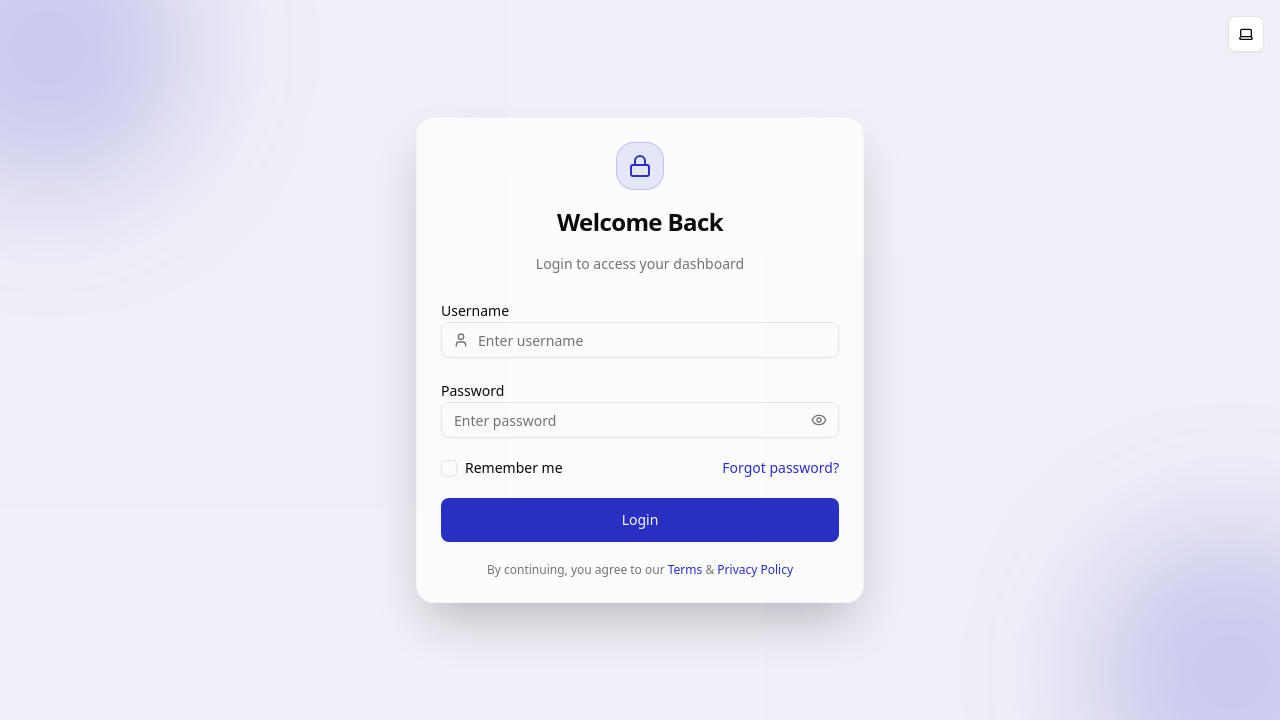
Test: LoginPage Component › should show validation error if password is less than 6 characters
This screenshot has width=1280, height=720.
Step 1. Type "admin" into the field with placeholder "Enter username" → (640,340), box [441,322,839,358]
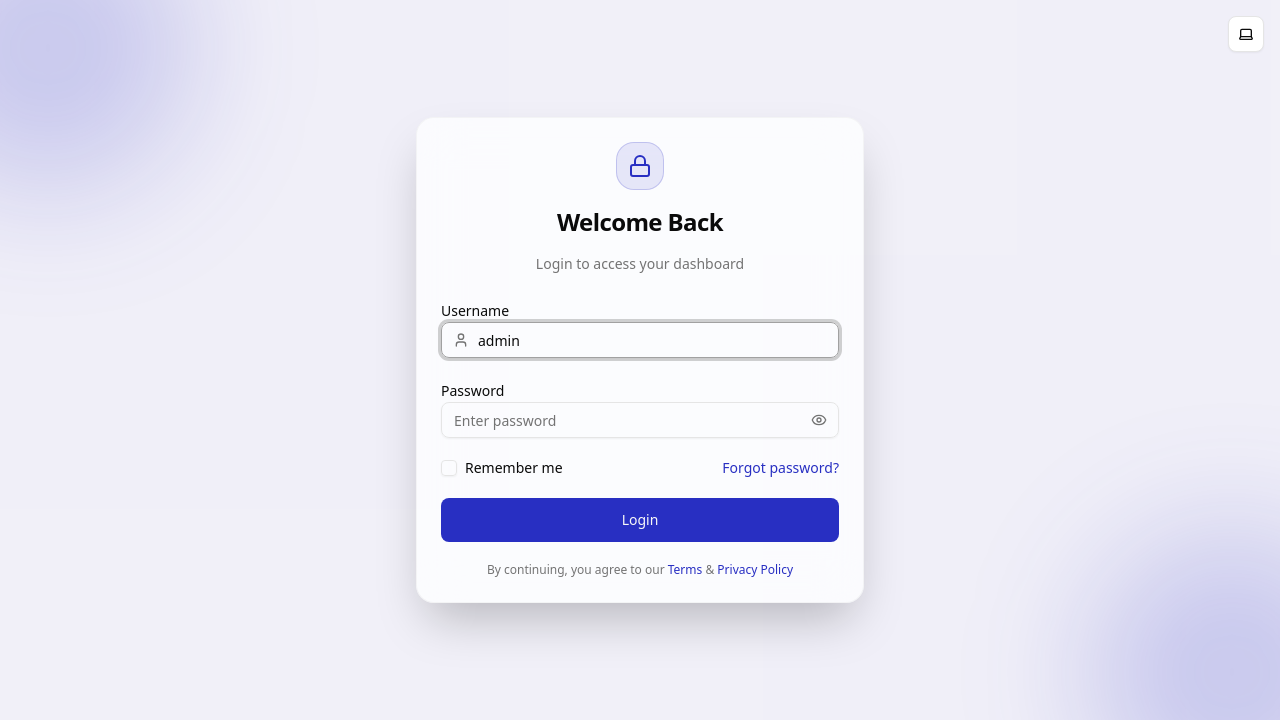
Step 2. Type "123" into the password field with placeholder "Enter password" → (640,420), box [441,402,839,438]
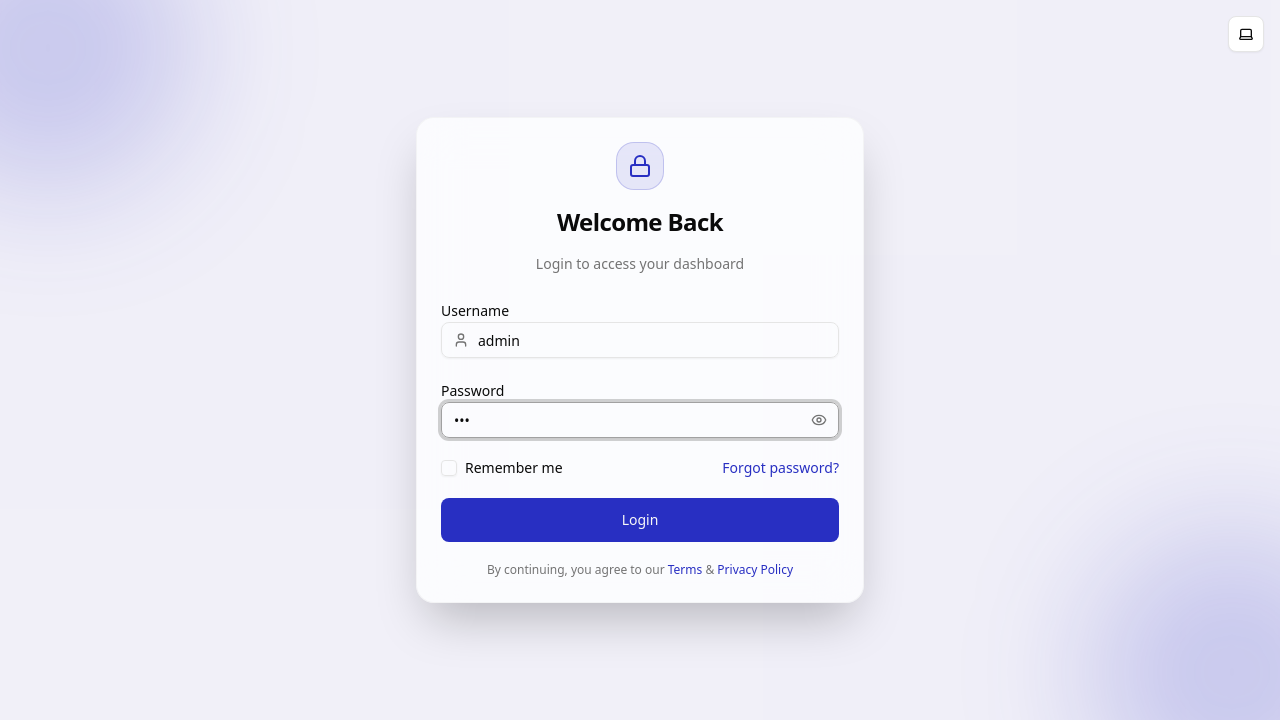
Step 3. Click the button "Login" → (640,520), box [441,498,839,542]
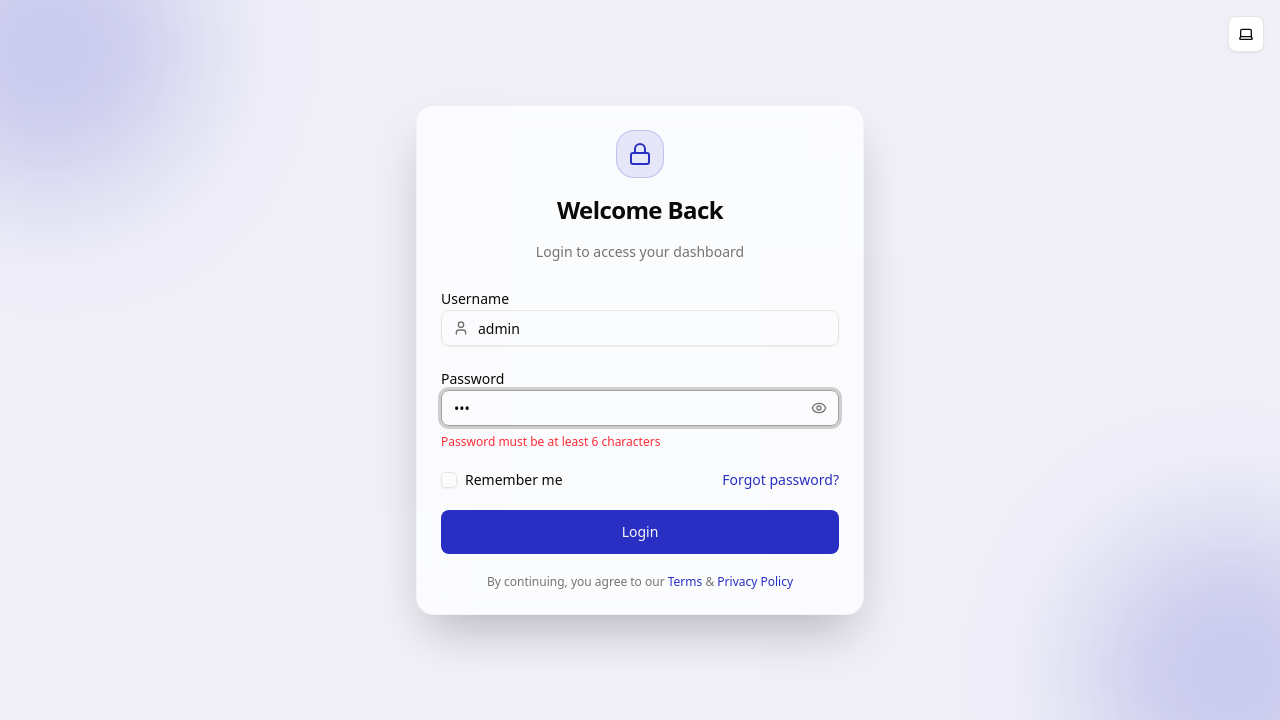
Check: the text "Password must be at least 6 characters" is shown, box [441,433,660,450]
